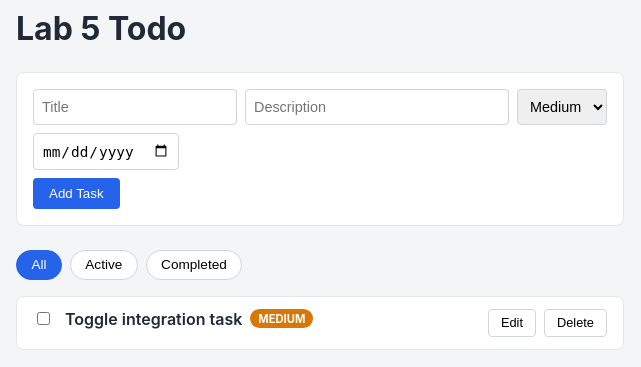
App integration › toggling a task's checkbox updates what the real FilterTabs-filtered TaskList shows
The image size is (641, 367).
Click the button "Active" at (104, 265), box [70,250,138,280]
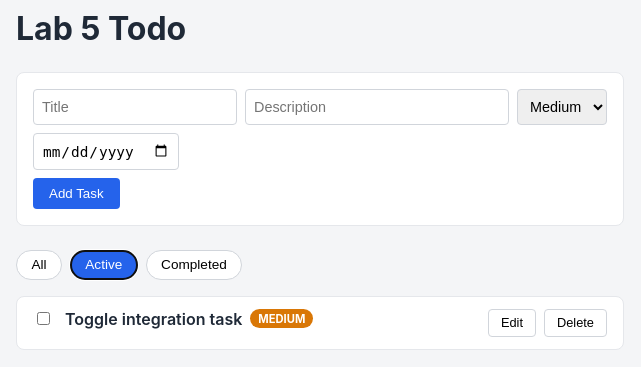
Check: the text "Toggle integration task" is shown, box [65,309,242,329]
Click the checkbox at (44, 318), box [37,312,50,325]
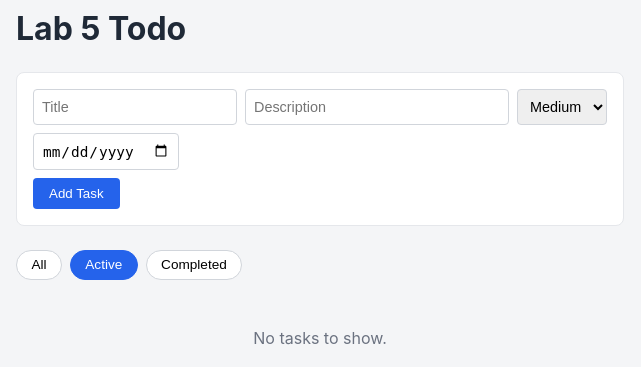
Check: the text "No tasks to show." is shown, box [253,328,387,348]
Click the button "Completed" at (194, 265), box [146,250,242,280]
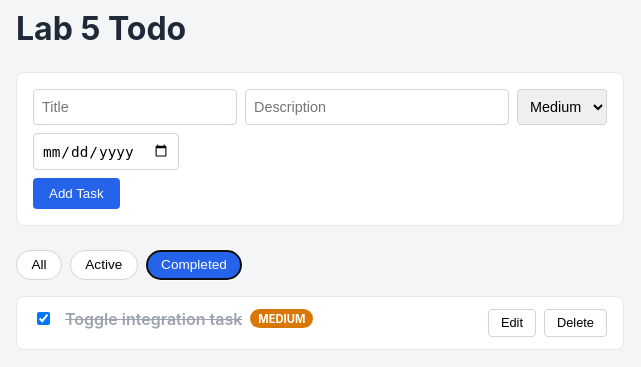
Check: the text "Toggle integration task" is shown, box [65,309,242,329]
